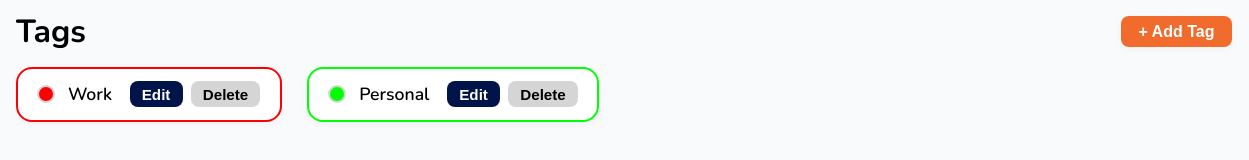
Scenario: TagsHome Component - Unit Tests › Delete Tag Functionality › should delete tag successfully
Expected: the text "Work" is shown, [68,82,112,106]
Expected: the text "Personal" is shown, [359,82,430,106]
Click delete on first tag
What coordinates should you click on to do the following:
click the button "Delete" in the row of "Work"
I would click on:
 (226, 94)
Its box is [191,81,260,107].
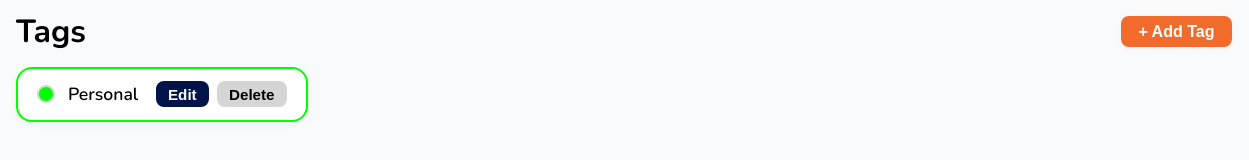
Expected: the text "Personal" is shown, [68,82,138,106]
Now the text "Work" is gone
